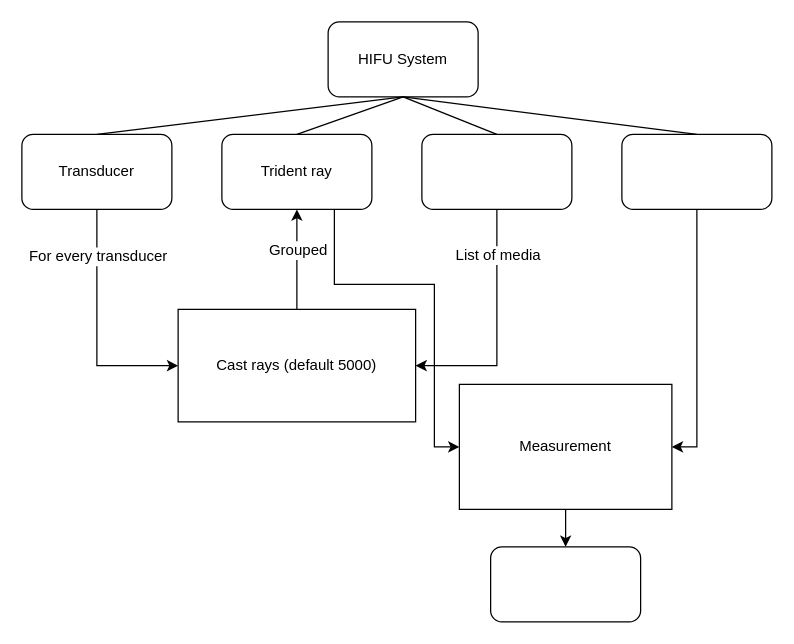
This 794x644 diagram has some shape labels left out. Here are the shapes that lost their labels. From the top down, the centre of each, then its label:
(496,171): Media
(696,171): Box
(565,584): Result
